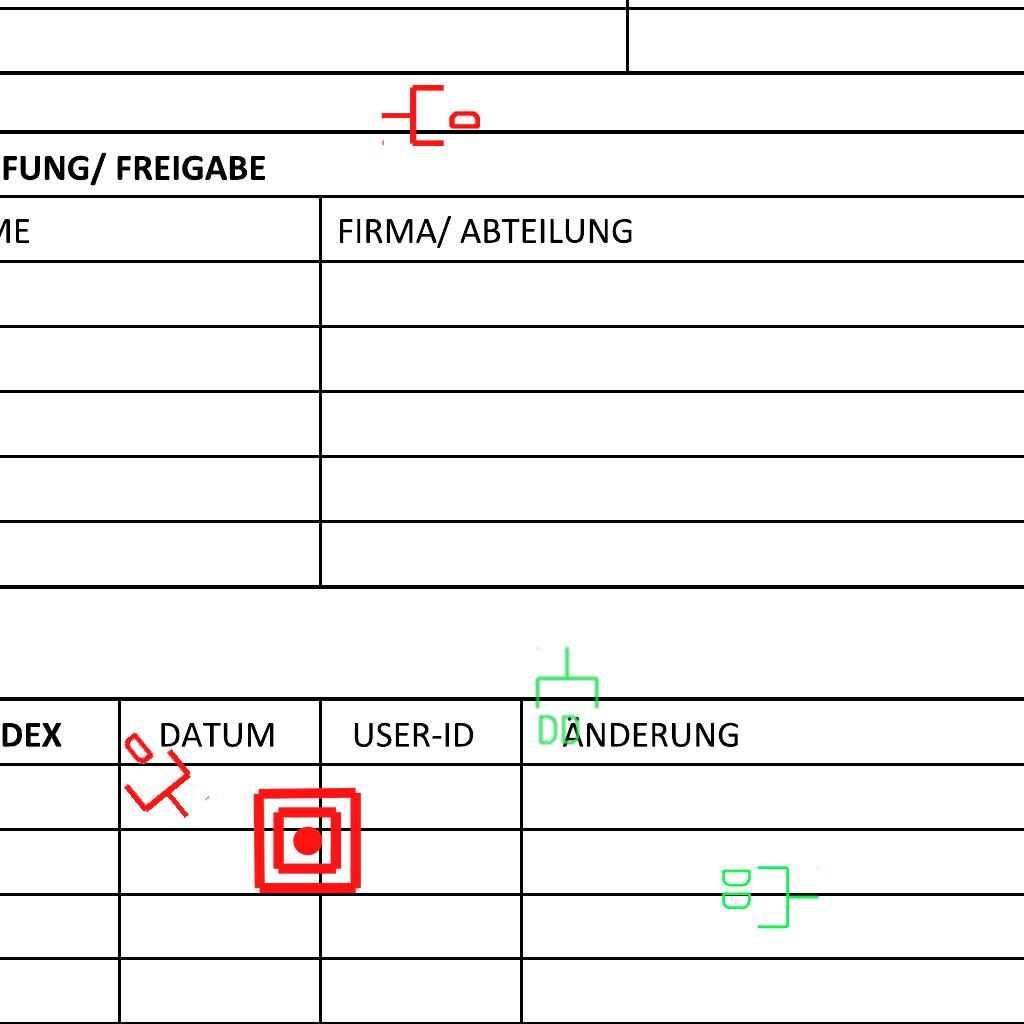Datenanschluss_einfach: (98, 718, 215, 840), (380, 81, 480, 150)
Datenanschluss_zweifach: (718, 862, 821, 931), (532, 645, 601, 748)
NAM-Nichtautomatischer_Melder: (251, 784, 364, 897)
